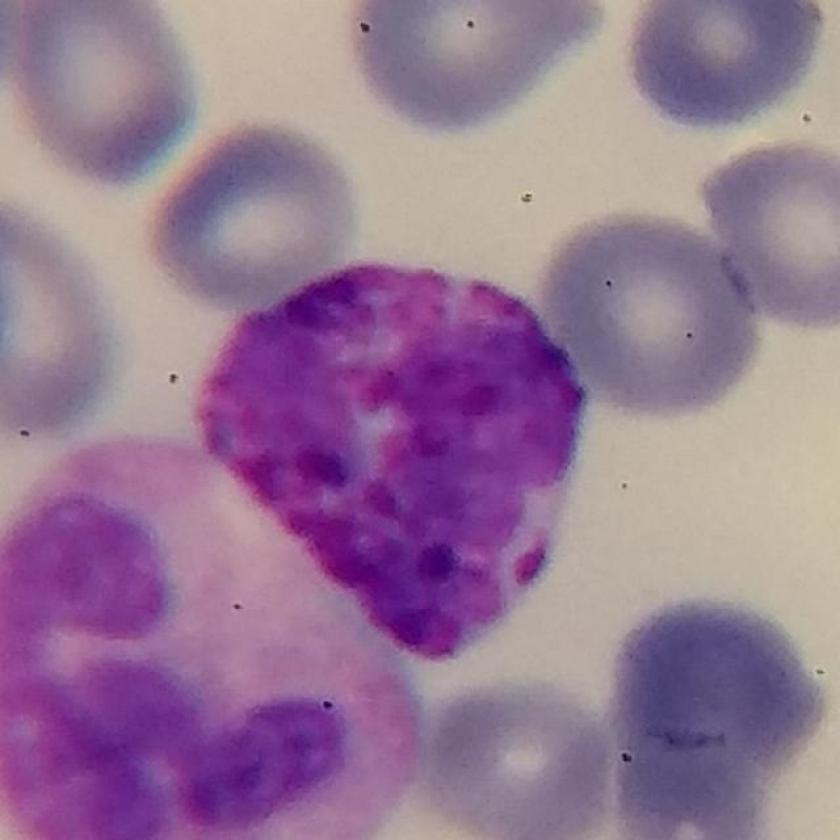basophil: (195, 254, 610, 669)
